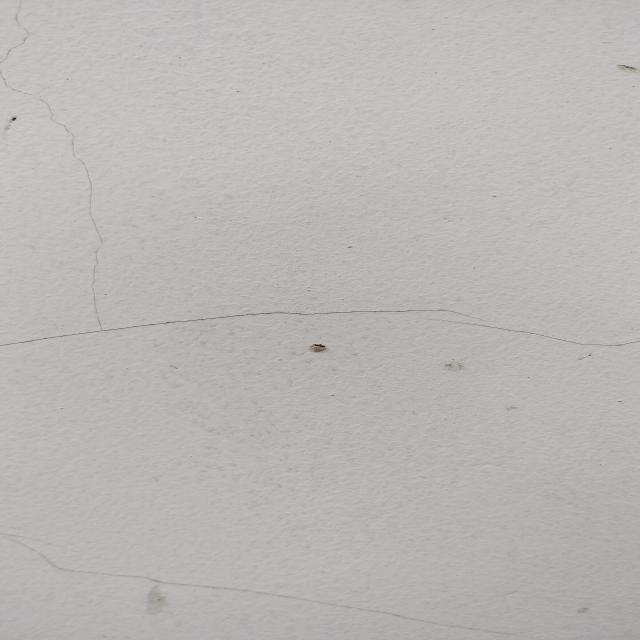Crack: (8, 306, 640, 353)
